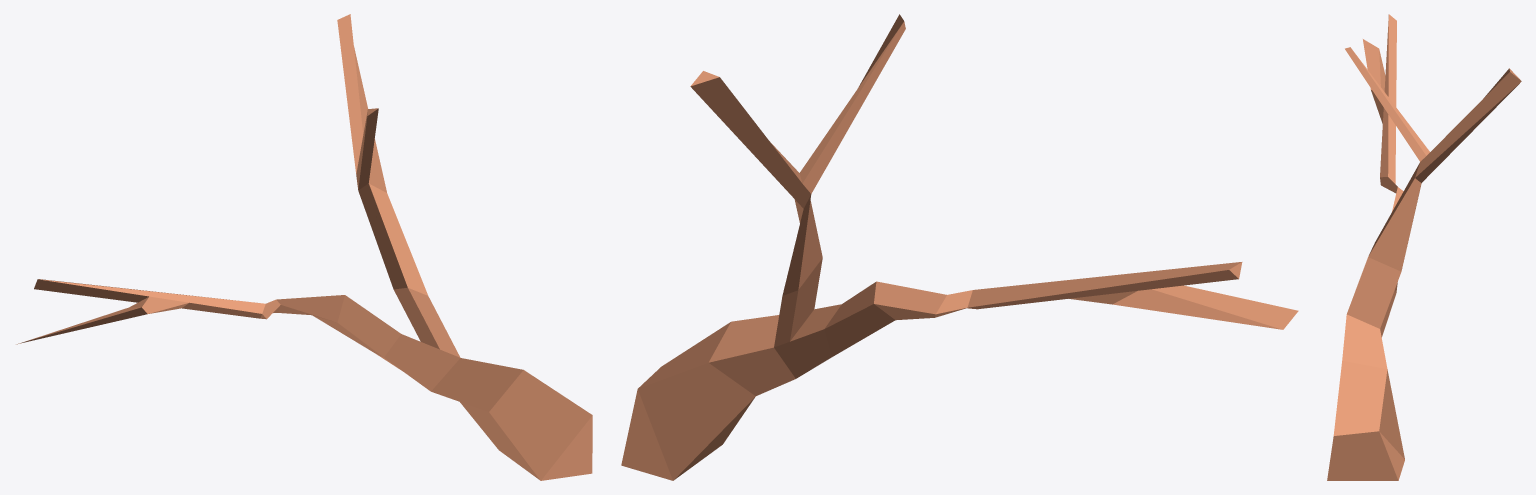
Rendered from Tree2.dae.
The picture shows the model from 3 angles, left to right: view 1: azimuth 30°, elevation 25°; view 2: azimuth 150°, elevation 25°; view 3: azimuth 270°, elevation 25°; orthographic projection. The views are drawn at different scales.
Parts seen in each view (by area): view 1: Baum2; view 2: Baum2; view 3: Baum2.
Part boxes in pixels (x1=…): Baum2: x1=16, y1=14, x2=592, y2=480; Baum2: x1=621, y1=14, x2=1298, y2=480; Baum2: x1=1327, y1=14, x2=1521, y2=480.
Bounding box in the file's own units: 15.29 × 5.45 × 10.89.
